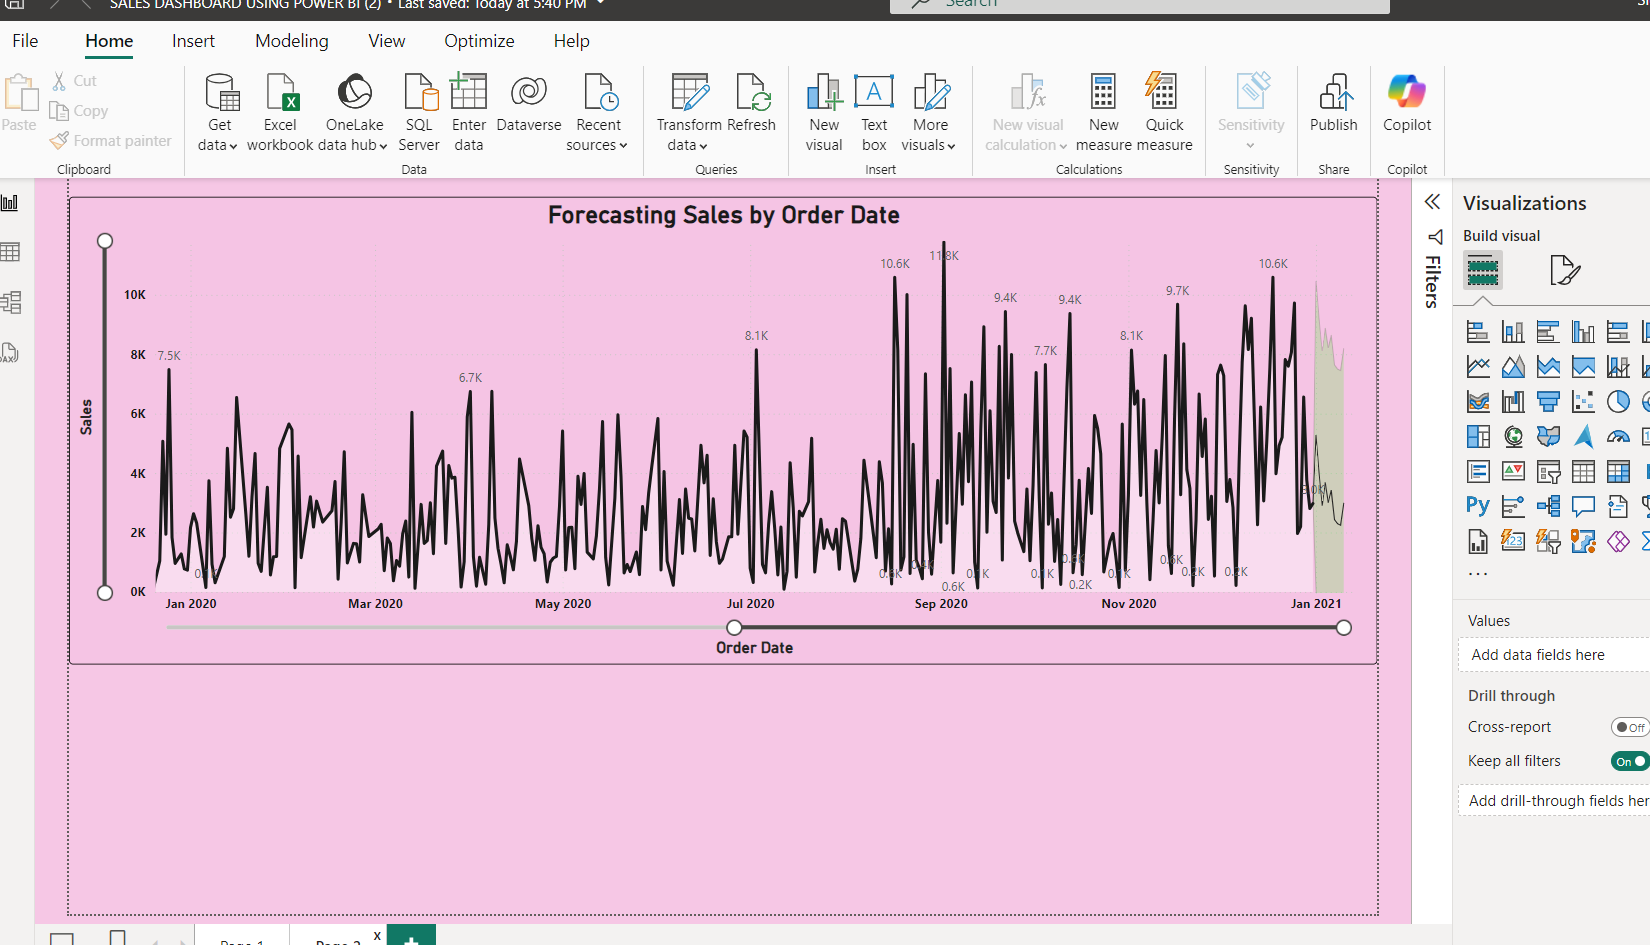

The page's visual inventory and layout, read from the dashboard file:
{"tool":"powerbi","page":{"name":"Page 2","canvas":[1280,720],"ordinal":1},"visuals":[{"type":"lineChart","title":"Forecasting Sales by Order Date","fields":{"Y":["Sum(SuperStore_Sales_Dataset.Sales)"],"Category":["SuperStore_Sales_Dataset.Order Date"]},"box":[0,18.7,1280.2,457.9],"z":0}]}

Visuals, with their boxes on the page's 1280x720 design canvas (x1, y1, x2, y2). These are canvas units, not pixel positions in the 1650x945 screenshot, which may show the page scaled, cropped or inside an application window:
"Forecasting Sales by Order Date" lineChart: {"left": 0, "top": 19, "right": 1280, "bottom": 477}
